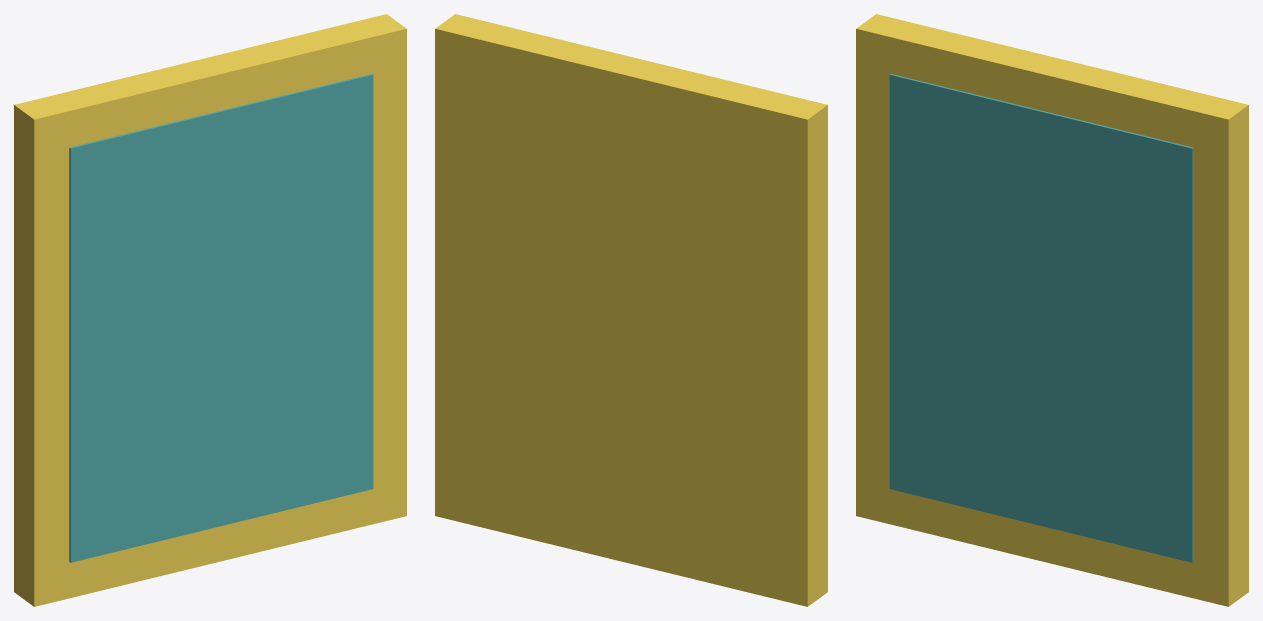
Rendered from sm_product_picture_frame.glb.
3 renders of one model, left to right at view 1: azimuth 30°, elevation 25°; view 2: azimuth 150°, elevation 25°; view 3: azimuth 330°, elevation 25°, orthographic.
Visible parts, largest first — view 1: picture_frame_1, picture_frame_0; view 2: picture_frame_0; view 3: picture_frame_1, picture_frame_0.
Part boxes in pixels (x1,y1,x2,y2): picture_frame_1: (69, 74, 373, 562); picture_frame_0: (14, 14, 406, 606); picture_frame_0: (435, 14, 827, 606); picture_frame_1: (889, 74, 1193, 562); picture_frame_0: (856, 14, 1248, 606).
Size of what is drawn, in the model's own units: 0.32 by 0.4 by 0.032.
